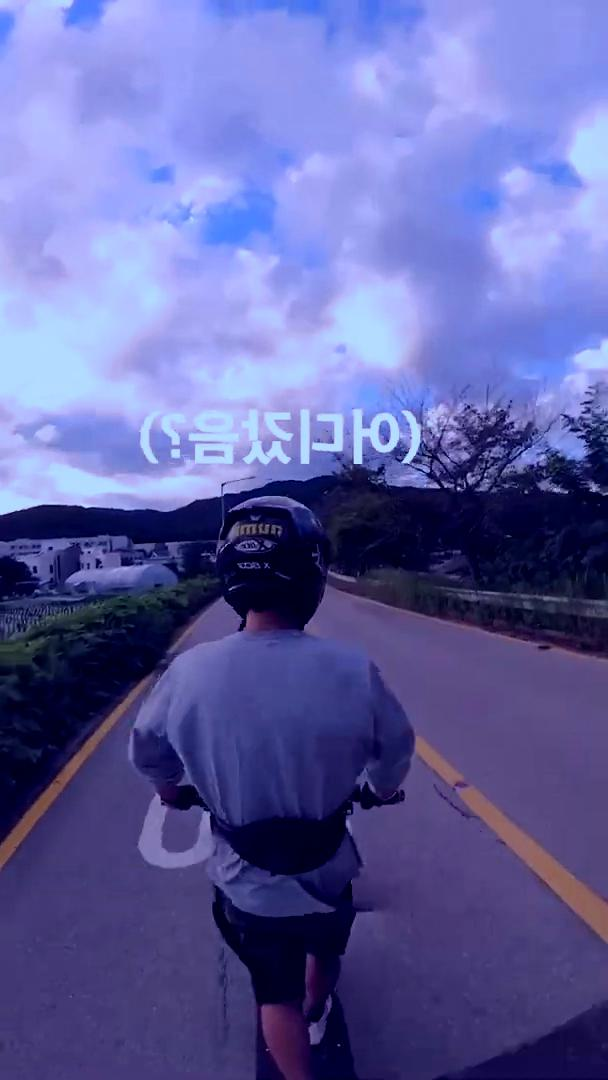helmet: (125, 492, 418, 1080)
